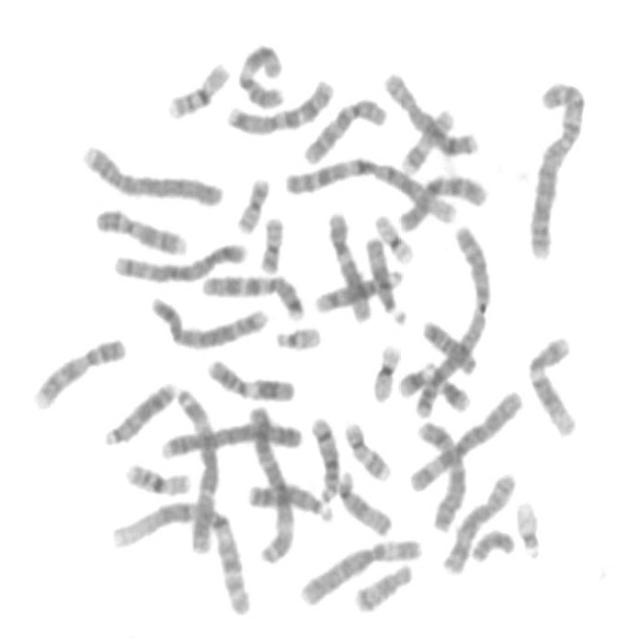A1: (104, 491, 255, 617), (281, 148, 464, 227)
A2: (408, 216, 494, 420), (522, 74, 590, 262)
A3: (240, 398, 297, 566), (167, 380, 221, 556)
B4: (76, 136, 227, 209), (155, 414, 307, 463)
B5: (144, 288, 272, 350), (110, 234, 250, 284)
C10: (298, 90, 390, 166), (393, 167, 490, 232)
C11: (201, 351, 298, 404), (232, 36, 288, 110)
C12: (523, 328, 581, 438), (323, 204, 375, 324)
C6: (405, 382, 526, 494), (294, 530, 425, 608)
C7: (222, 70, 338, 136), (195, 265, 308, 321)
C8: (379, 64, 482, 158), (436, 465, 520, 576)
C9: (26, 329, 130, 412), (90, 200, 191, 257)
D13: (99, 374, 180, 448), (242, 474, 337, 524)
D14: (310, 261, 407, 316), (305, 409, 343, 505)
D15: (360, 230, 410, 326), (333, 463, 396, 538)
E16: (161, 54, 233, 120), (120, 456, 194, 498)
E17: (396, 102, 457, 175), (340, 413, 396, 482)
E18: (417, 312, 480, 376), (348, 556, 416, 614)
F19: (370, 207, 418, 266), (366, 336, 404, 404)
F20: (231, 169, 273, 235), (254, 209, 287, 275)
G21: (429, 364, 476, 414), (394, 354, 436, 399)
G22: (510, 492, 546, 561), (270, 318, 325, 352)
X: (411, 413, 471, 533)
Y: (466, 520, 518, 564)
